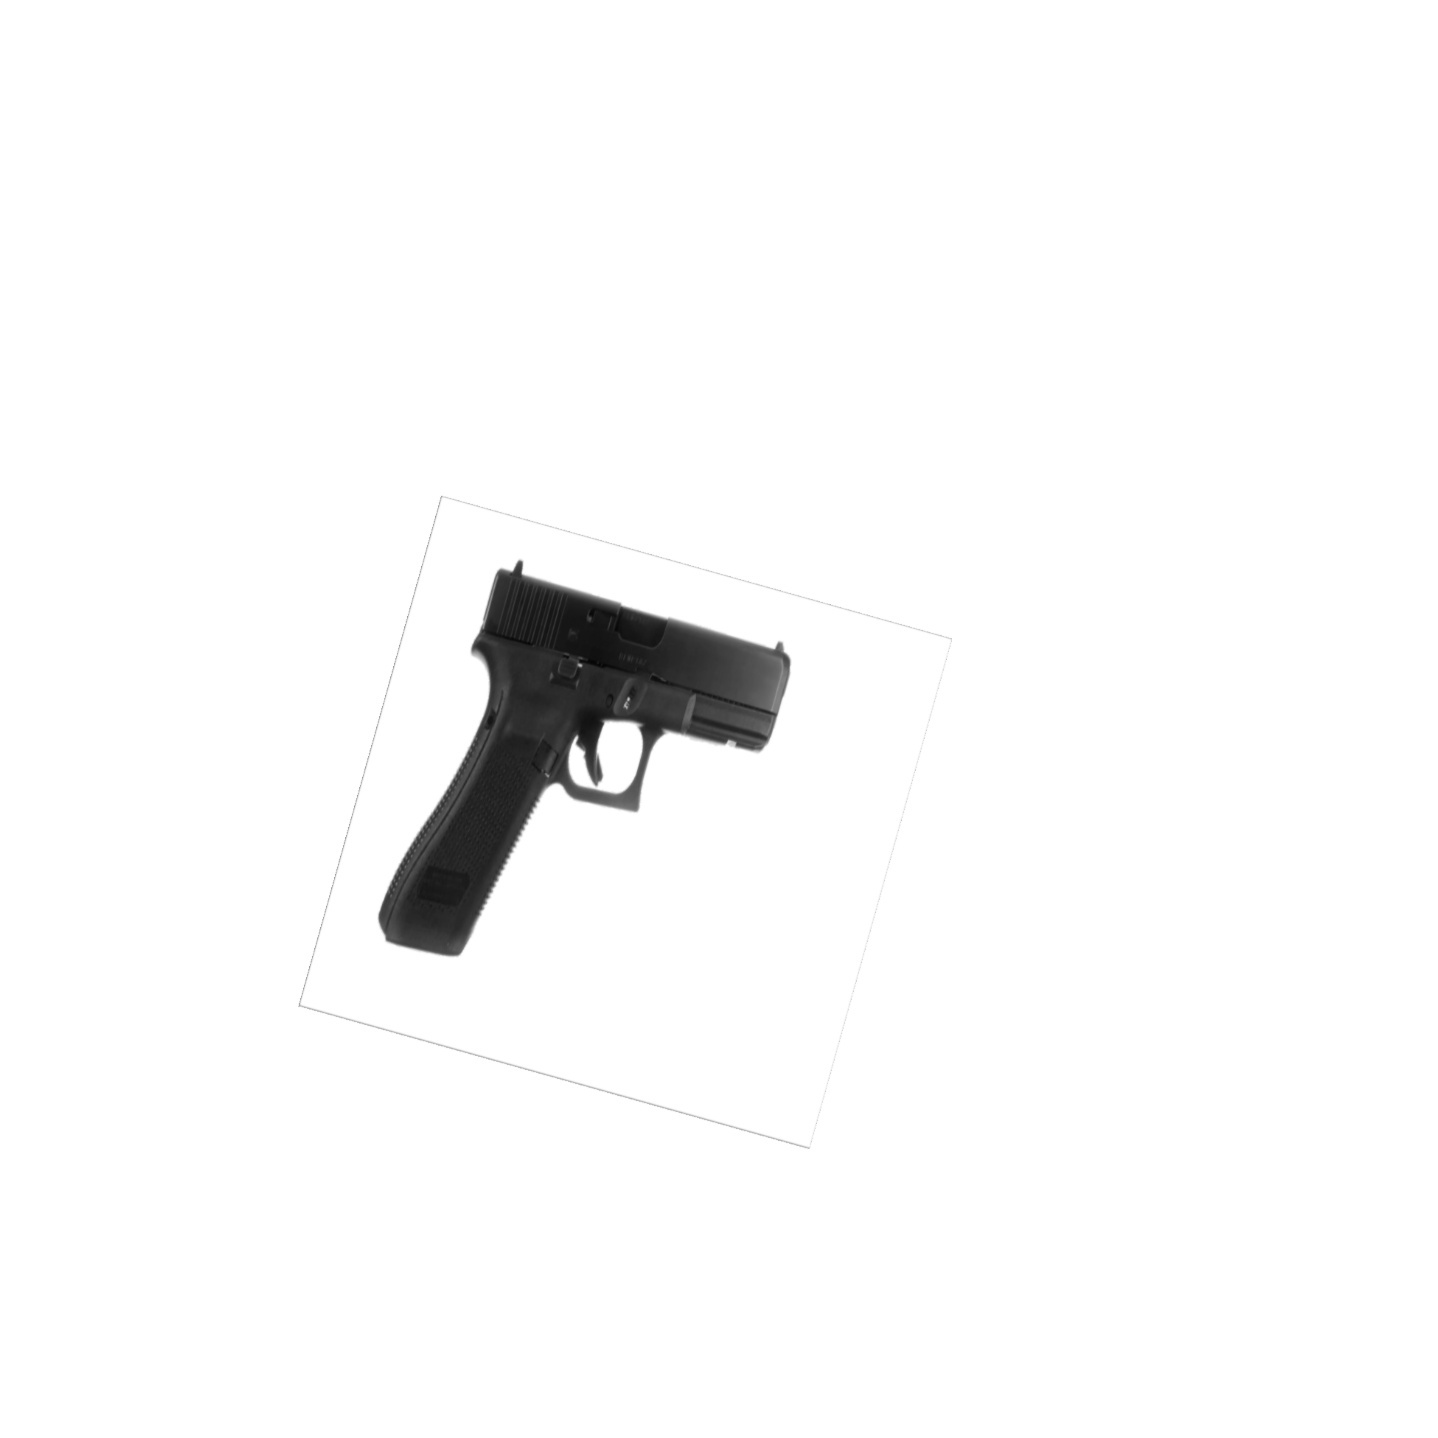gun: (356, 553, 801, 978)
